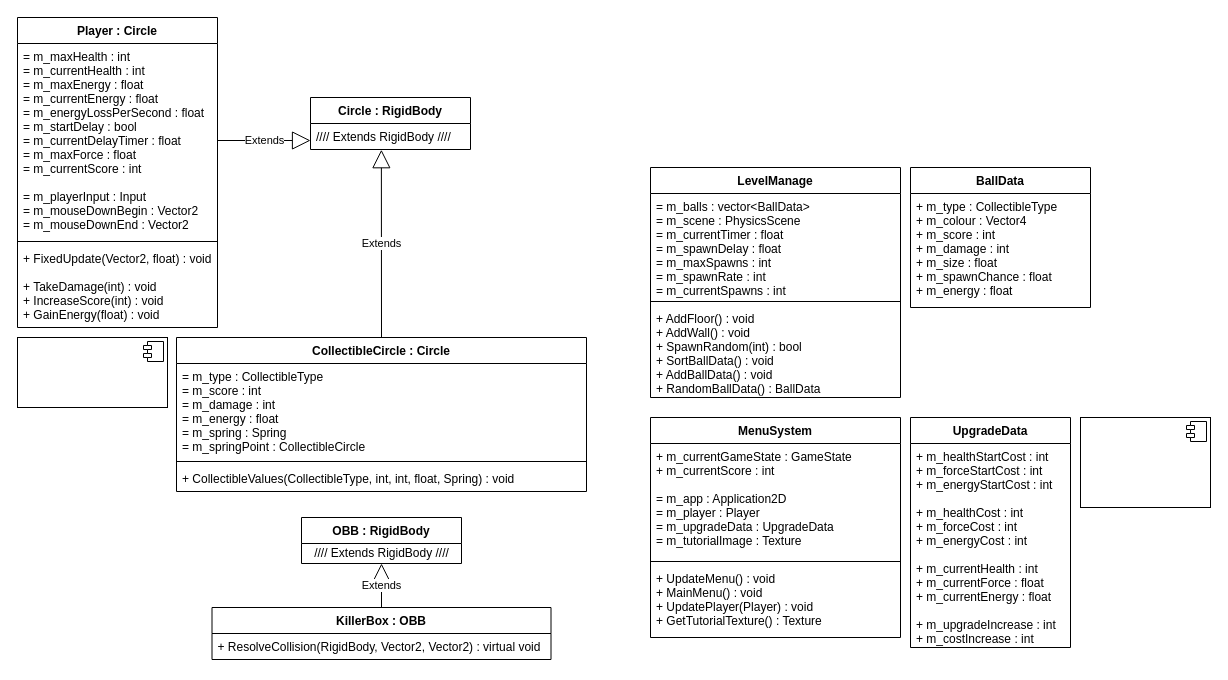
Some shapes in this 1228 by 680 pixel diagram are drawn without their labels. The centre of each missing label's shape, as x and y in pixels:
CollectibleType NORMAL DANGEROUS: point (92, 372)
GameState MENU TUTORIAL GAME: point (1145, 462)
